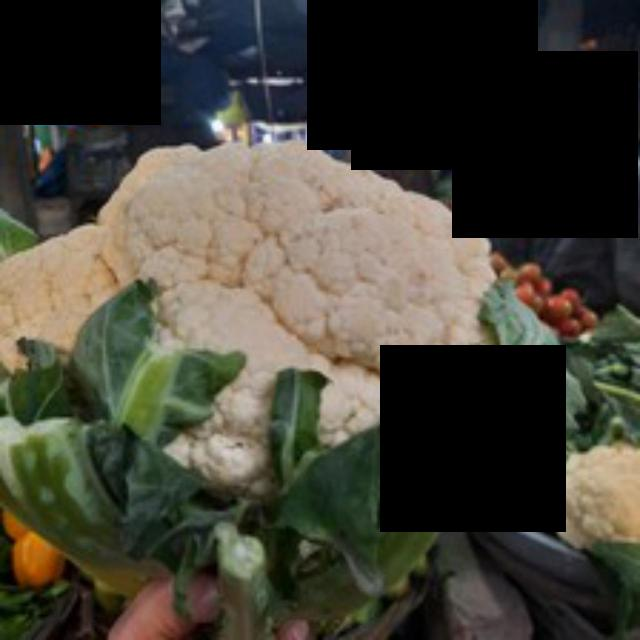cauliflower: (0, 133, 540, 534)
